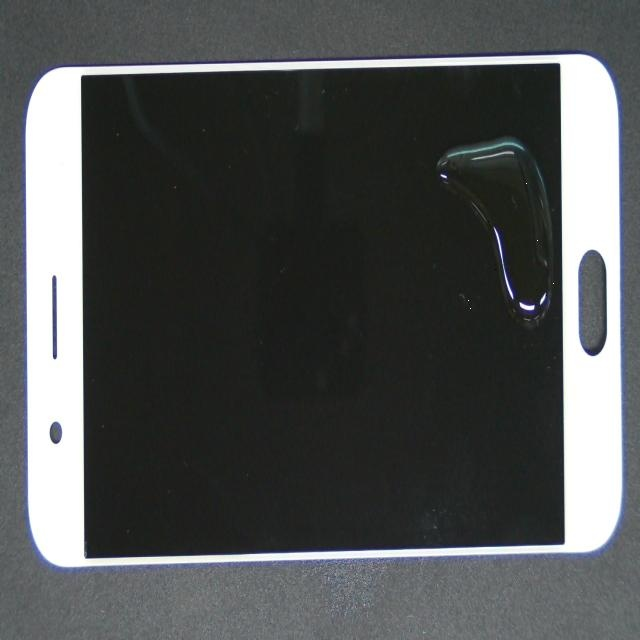oil: (232, 68, 640, 236)
